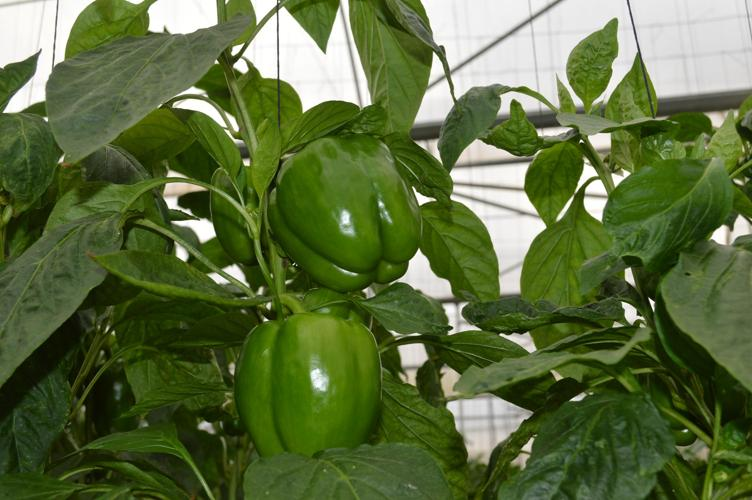BellPepper: (273, 137, 428, 279), (235, 313, 385, 447), (207, 169, 263, 266)
